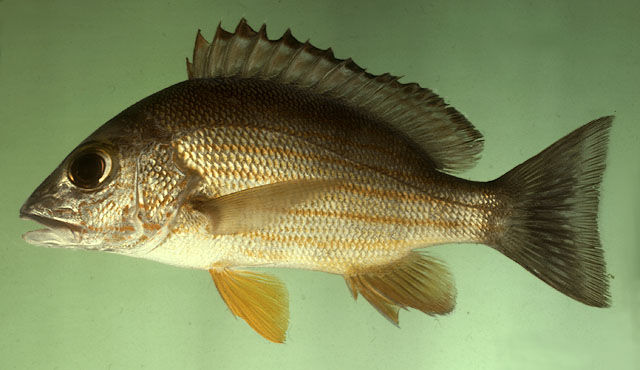fish: (18, 14, 617, 346)
